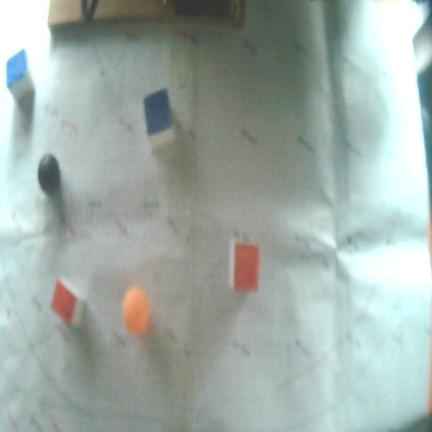circle_blue: (38, 155, 60, 196)
circle_orange: (122, 286, 150, 336)
rectangle_blue: (6, 48, 27, 91)
rectangle_orange: (52, 282, 77, 324)
square_blue: (142, 84, 173, 138)
square_orange: (235, 242, 260, 293)
